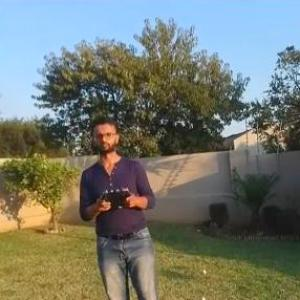follow: (76, 109, 168, 299)
